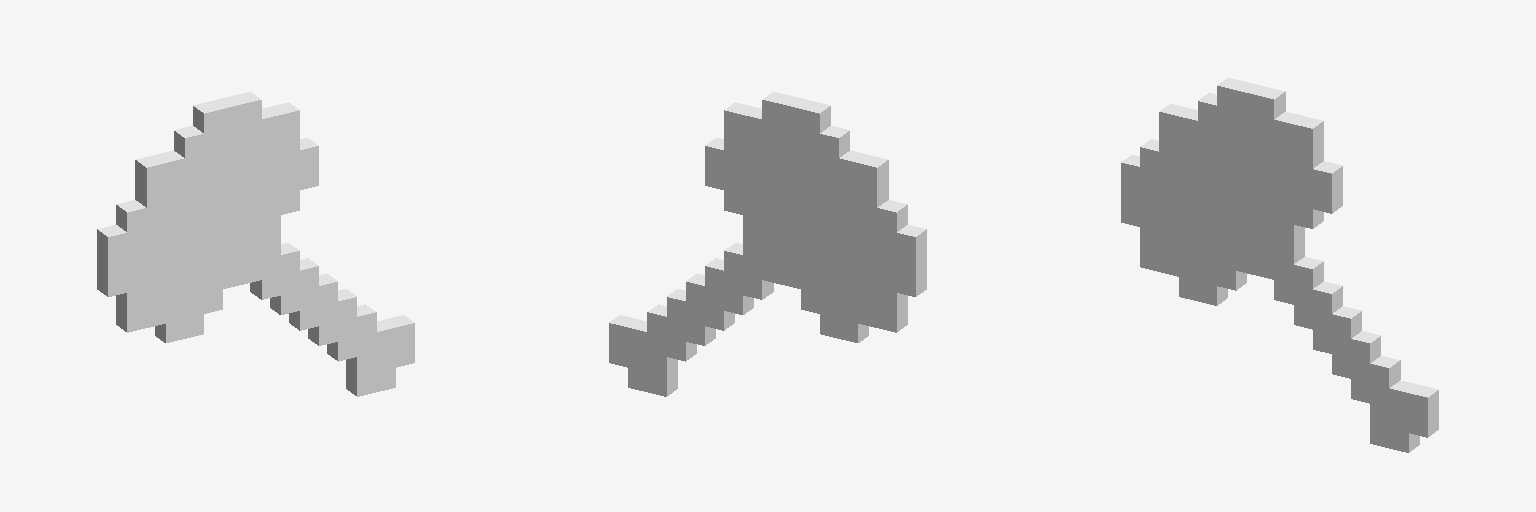
File: battlehammer.obj
The picture shows the model from 3 angles: view 1: azimuth 30°, elevation 25°; view 2: azimuth 150°, elevation 25°; view 3: azimuth 330°, elevation 25°; orthographic projection.
Size of the model in its own units: 16 by 16 by 1.